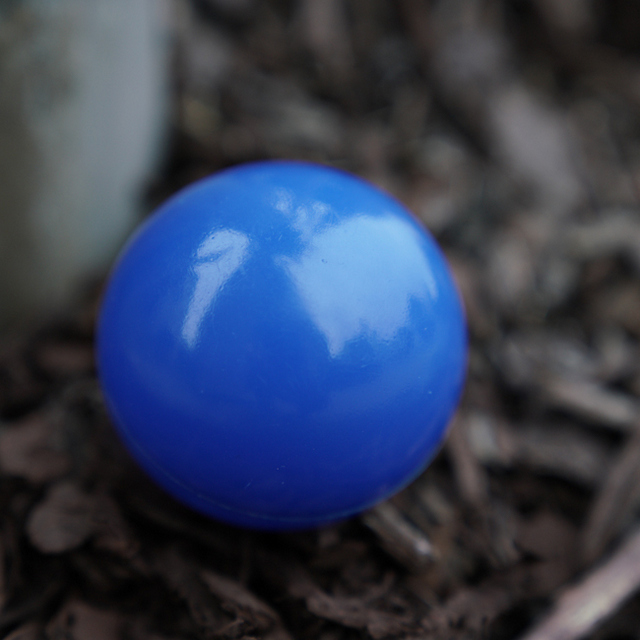Ball: (99, 165, 464, 524)
